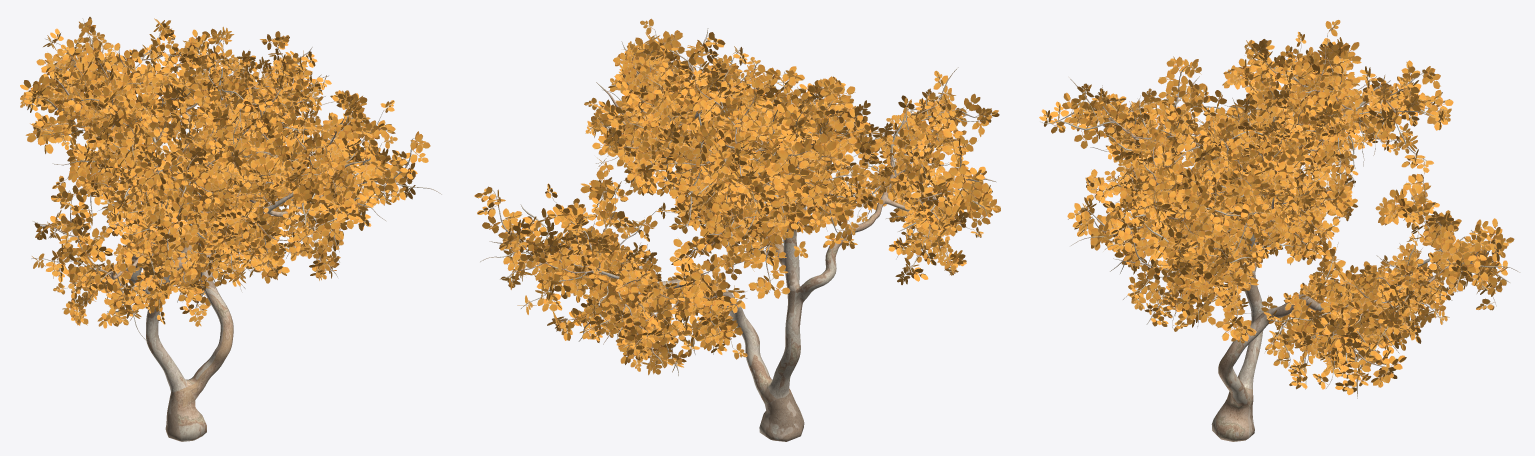
The model's file is Tree_1_3_Orange.fbx.
3 views of the same model, side by side, from view 1: azimuth 30°, elevation 25°; view 2: azimuth 150°, elevation 25°; view 3: azimuth 270°, elevation 25° (orthographic). The views are drawn at different scales.
Parts seen in each view (by area): view 1: Tree_1_3_Orange_LOD0; view 2: Tree_1_3_Orange_LOD0; view 3: Tree_1_3_Orange_LOD0.
Part boxes in pixels (bbox=[...]): Tree_1_3_Orange_LOD0: bbox=[20, 17, 441, 441]; Tree_1_3_Orange_LOD0: bbox=[474, 18, 1000, 441]; Tree_1_3_Orange_LOD0: bbox=[1039, 19, 1520, 441].
Size of what is drawn, in the model's own units: 1080 by 1023 by 1166.
